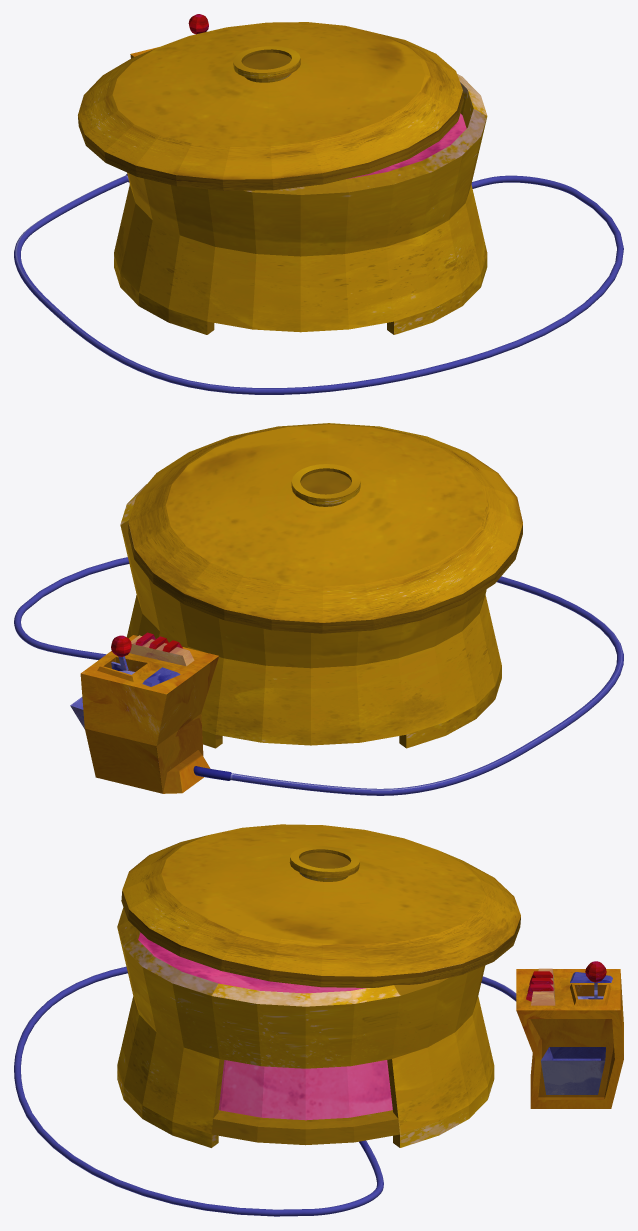
Rendered from Mezcladora.glb.
3 views of the same model, one above another, from view 1: azimuth 30°, elevation 25°; view 2: azimuth 150°, elevation 25°; view 3: azimuth 270°, elevation 25° (orthographic). The views are drawn at different scales.
Parts seen in each view (by area): view 1: Mezcladora; view 2: Mezcladora; view 3: Mezcladora.
Boxes of the visible parts, x1,y1,x2,y2 form: Mezcladora: [14, 14, 623, 394]; Mezcladora: [14, 423, 623, 795]; Mezcladora: [14, 824, 623, 1216].
Bounding box in the file's own units: 6.99 × 2.68 × 7.02.
6 materials, 6 textured.
